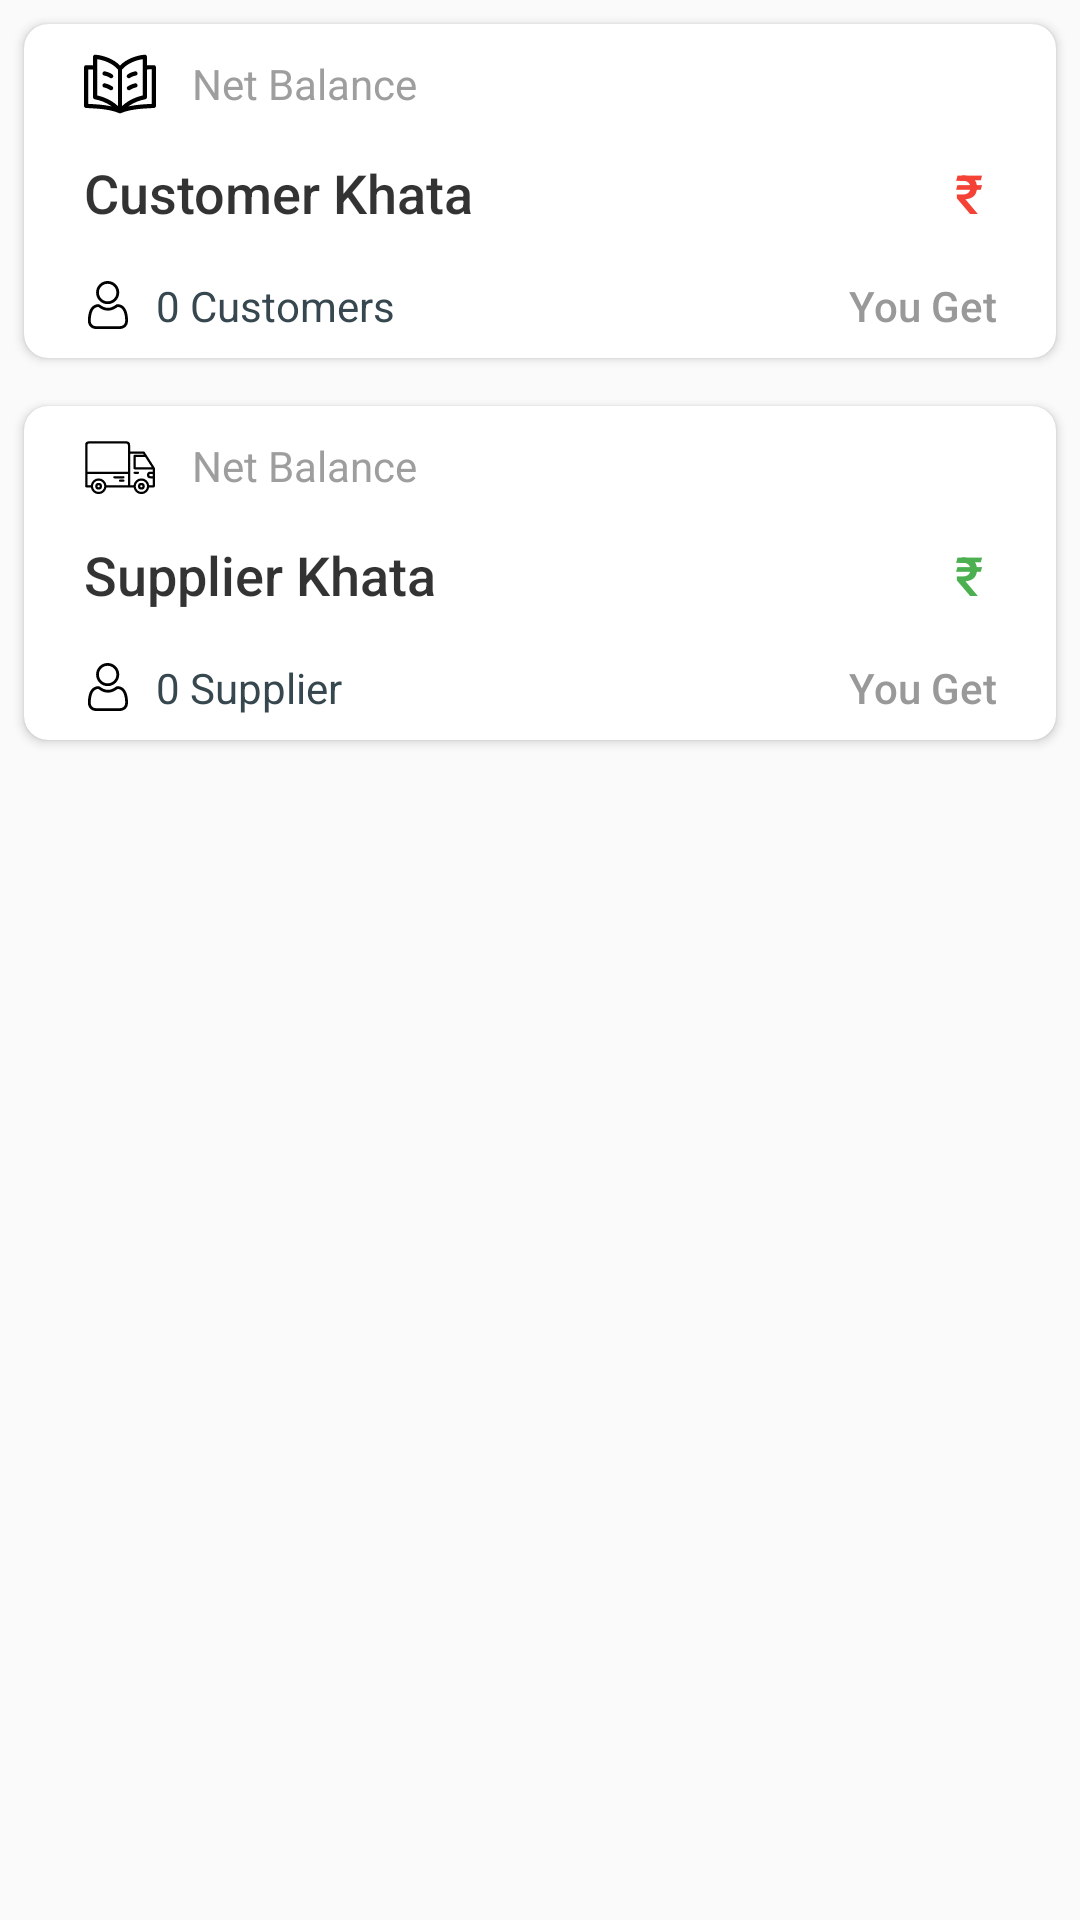

Icons on this 1080 x 1920 Android screen, each with the point to tap as (x,y):
khata book: (120,84)
person: (108,305), (108,687)
truck: (120,467)
